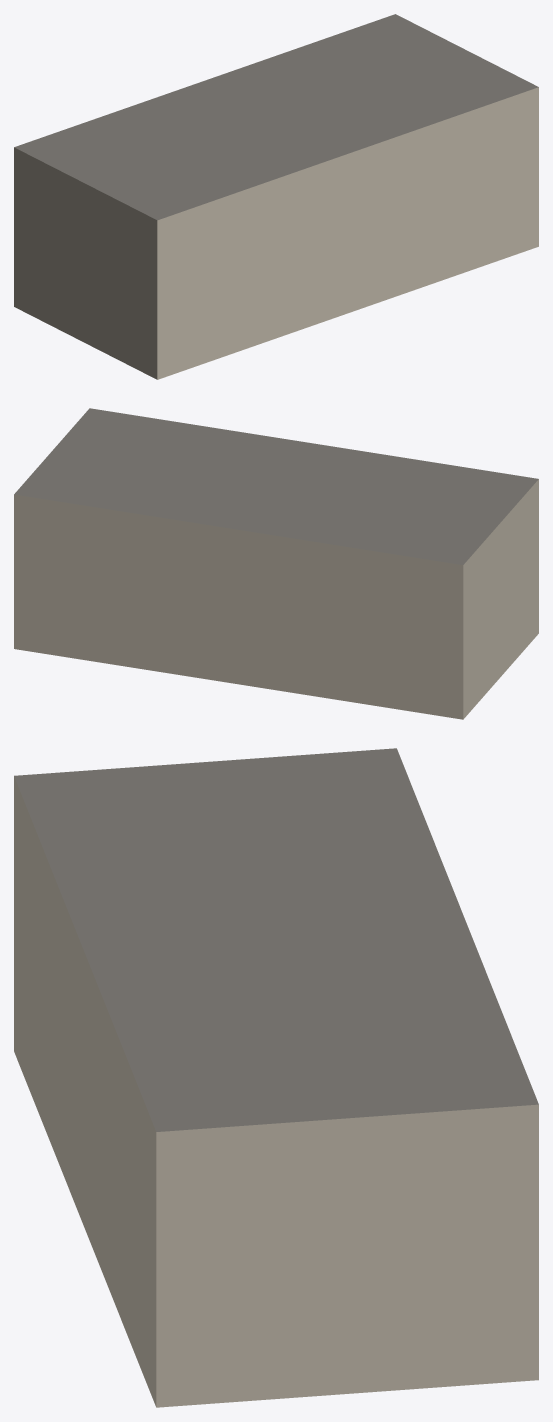
The picture shows the model from 3 angles, top to bottom: view 1: azimuth 30°, elevation 25°; view 2: azimuth 150°, elevation 25°; view 3: azimuth 270°, elevation 25°; orthographic projection. The views are drawn at different scales.
Visible parts, largest first — view 1: HP-w1286956120; view 2: HP-w1286956120; view 3: HP-w1286956120.
Boxes of the visible parts, x1,y1,x2,y2 form: HP-w1286956120: (14,14,538,379); HP-w1286956120: (14,408,538,719); HP-w1286956120: (14,748,538,1407).
Bounding box in the file's own units: 53.77 × 18 × 31.08.
